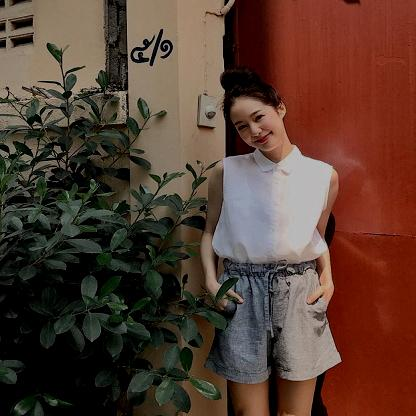jacket: (202, 259, 341, 382), (209, 146, 333, 261)
